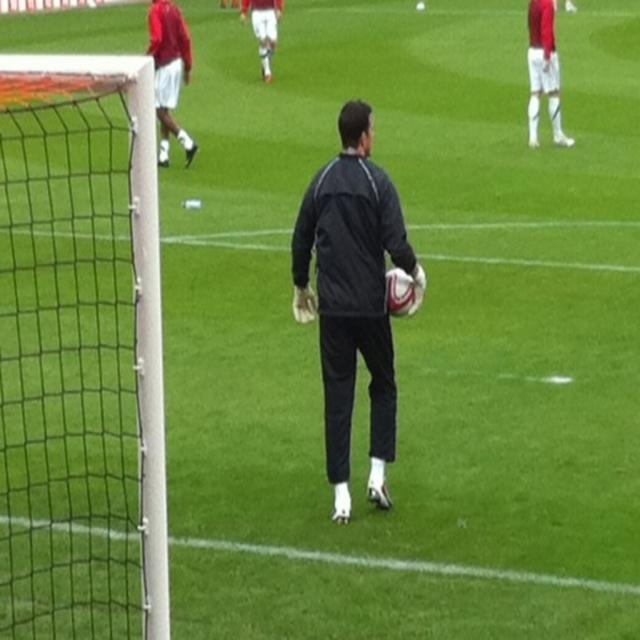football: (381, 266, 438, 340)
